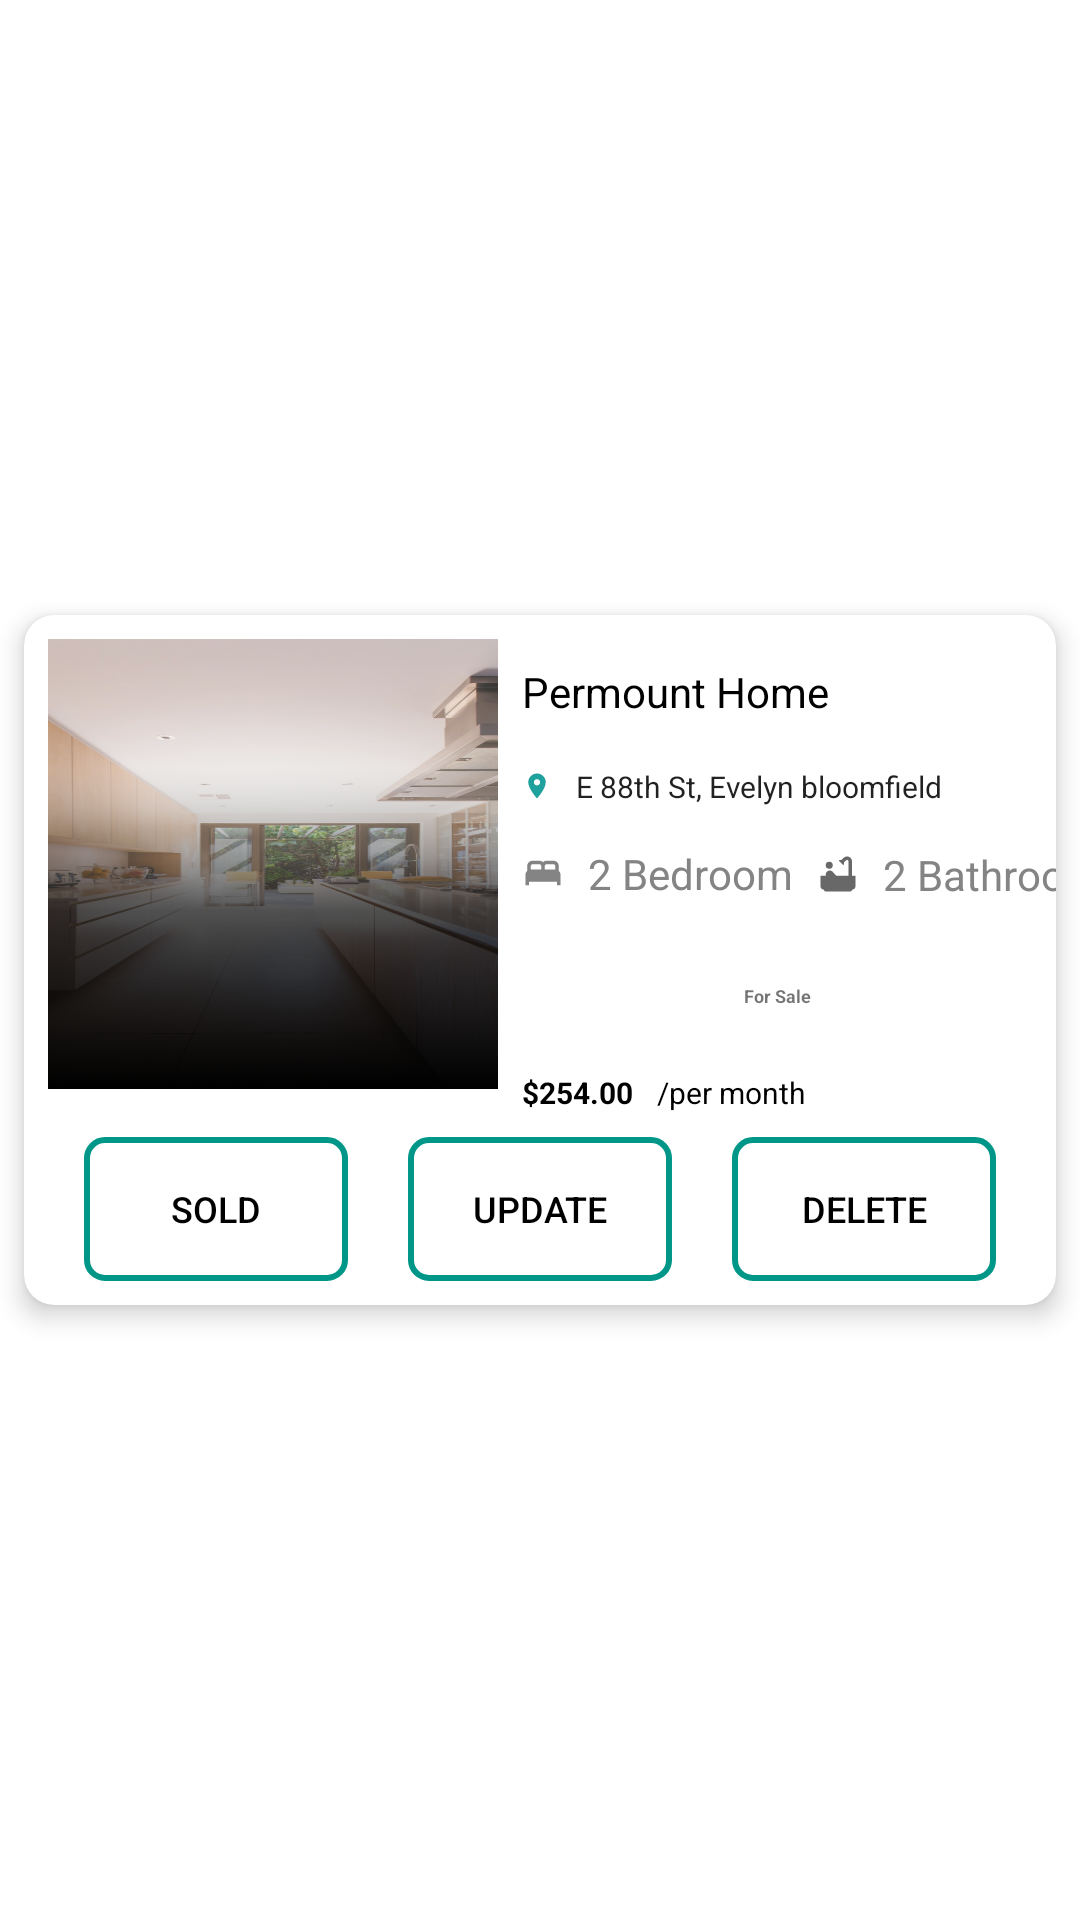

Locate icon controls on the screen. Image size 1080w x 1920h, boxes as (left=x1, top=y1, right=x2, bottom=y2).
bathtub: (left=820, top=856, right=856, bottom=892)
bed: (left=525, top=860, right=561, bottom=886)
